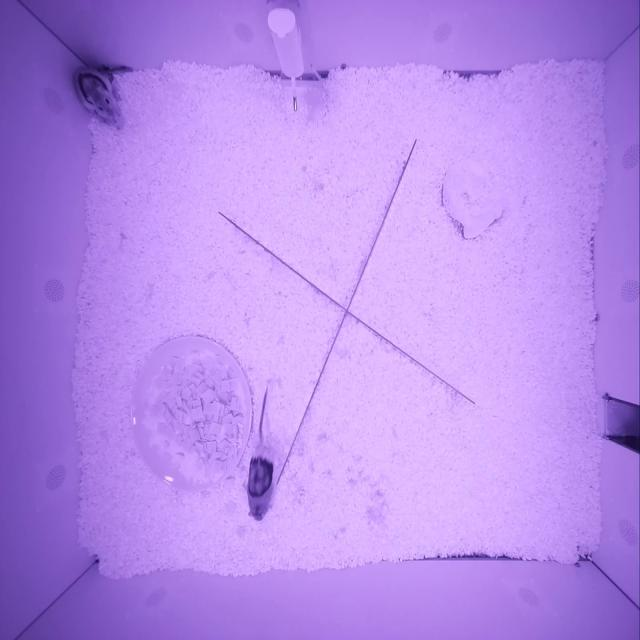adult_back: (246, 443, 275, 521)
adult_front: (74, 67, 121, 123)
